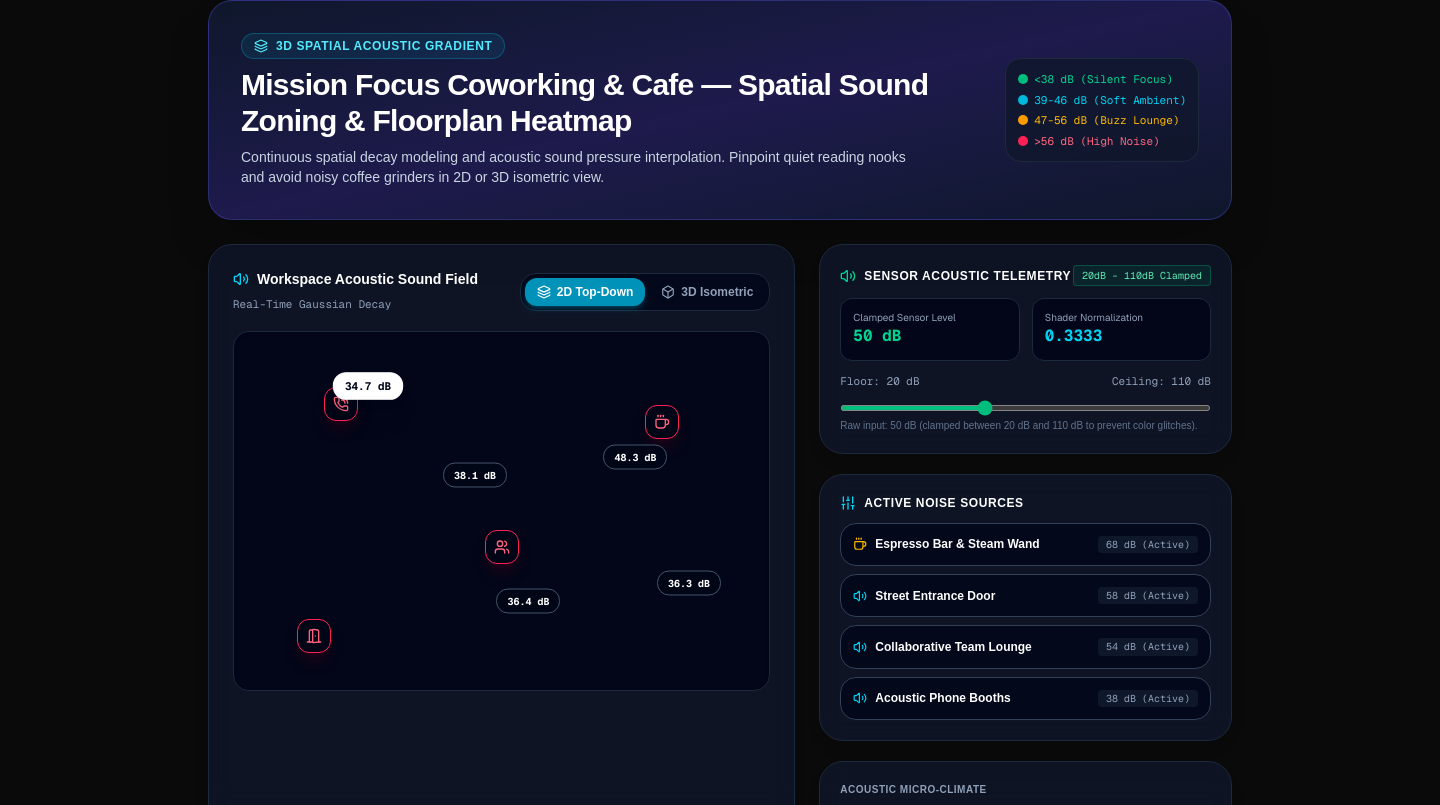
Test: SpatialAcousticGradientViewer telemetry clamping (Issue #5271) › clamps interactive telemetry slider updates to the 20 dB - 110 dB range
// Test sliding to negative/low
Set the slider with test id "telemetry-db-slider" to "5" at (862, 408), box [840,405,1211,411]
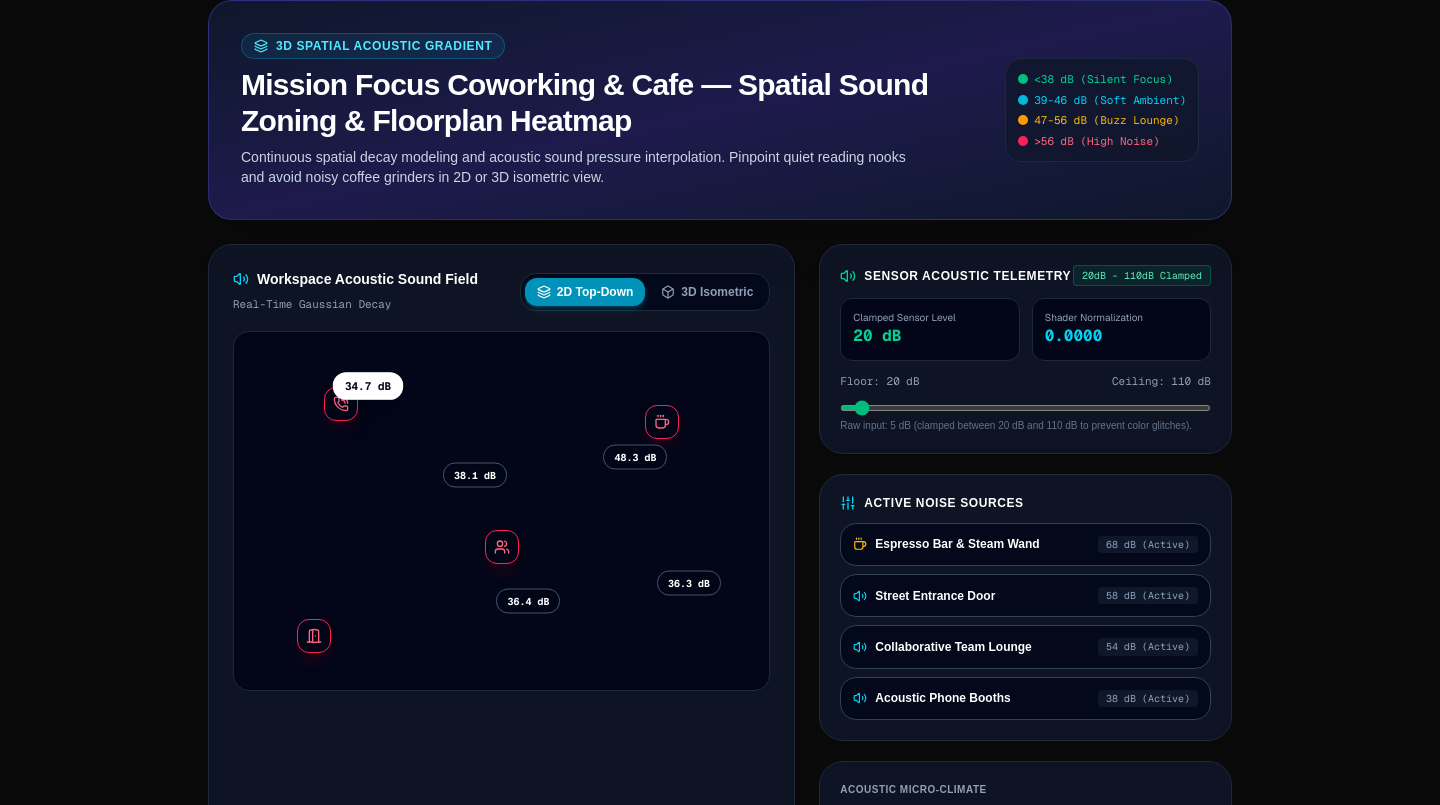
Expected: the text with test id "clamped-telemetry-db" reads "20 dB", [853,325,901,346]
Expected: the text with test id "normalized-shader-coord" reads "0.0000", [1045,325,1102,346]
// Test sliding to spike
Set the slider with test id "telemetry-db-slider" to "125" at (1189, 408), box [840,405,1211,411]
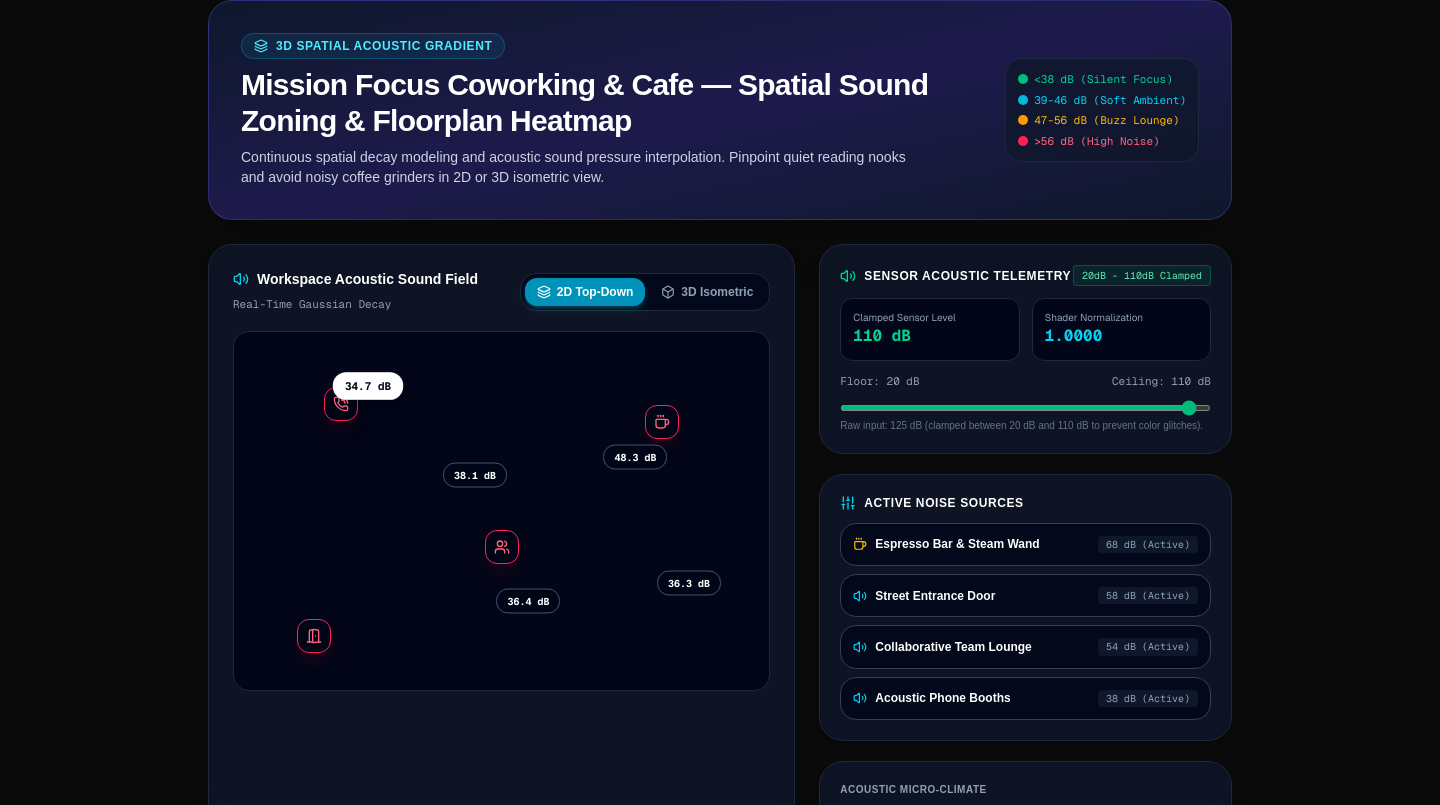
Expected: the text with test id "clamped-telemetry-db" reads "110 dB", [853,325,911,346]
Expected: the text with test id "normalized-shader-coord" reads "1.0000", [1045,325,1102,346]
